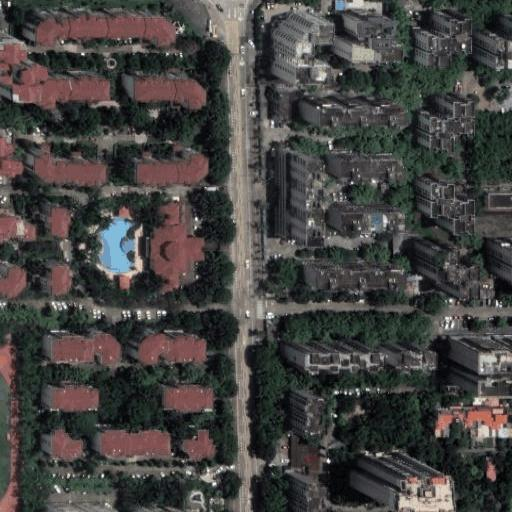building: (0, 38, 99, 102), (150, 204, 205, 289), (26, 9, 166, 37), (448, 337, 512, 383), (414, 240, 473, 289), (271, 11, 311, 73), (135, 78, 207, 110), (336, 10, 388, 54), (354, 457, 411, 497), (28, 148, 101, 179), (277, 153, 302, 242), (438, 408, 512, 438), (413, 94, 458, 143), (415, 179, 458, 230), (130, 149, 204, 178), (413, 13, 458, 60), (51, 333, 121, 363), (304, 262, 392, 283), (139, 336, 207, 363), (99, 430, 169, 456), (477, 14, 512, 64), (301, 98, 391, 116), (282, 344, 362, 364), (164, 386, 212, 412), (488, 240, 512, 290), (332, 204, 392, 223), (325, 153, 390, 170), (291, 436, 321, 472), (183, 430, 216, 461), (52, 430, 82, 461), (53, 389, 97, 410), (381, 344, 422, 364), (288, 391, 308, 430), (0, 127, 16, 175), (285, 475, 305, 512), (0, 255, 18, 292), (38, 203, 60, 231), (38, 269, 59, 297), (0, 208, 25, 231), (44, 503, 105, 512), (273, 95, 285, 123), (489, 195, 512, 209), (485, 458, 495, 482), (137, 508, 195, 512), (120, 277, 129, 289)
